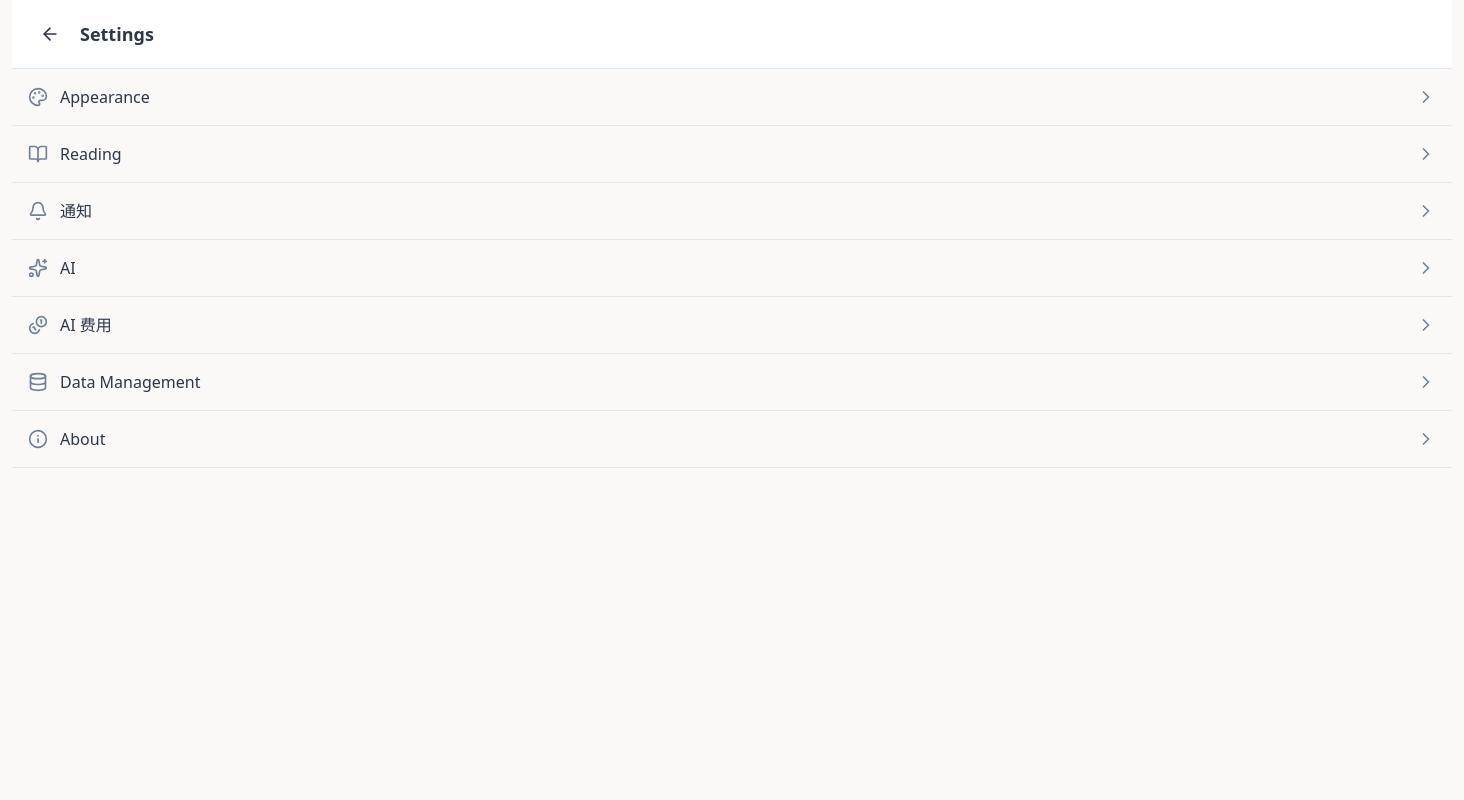
MobileSettingsPanel › Reading Settings › should reset settings when reset button is clicked
The image size is (1464, 800).
Click the button "Reading": coordinates (91, 154) x1=12 y1=126 x2=1452 y2=182
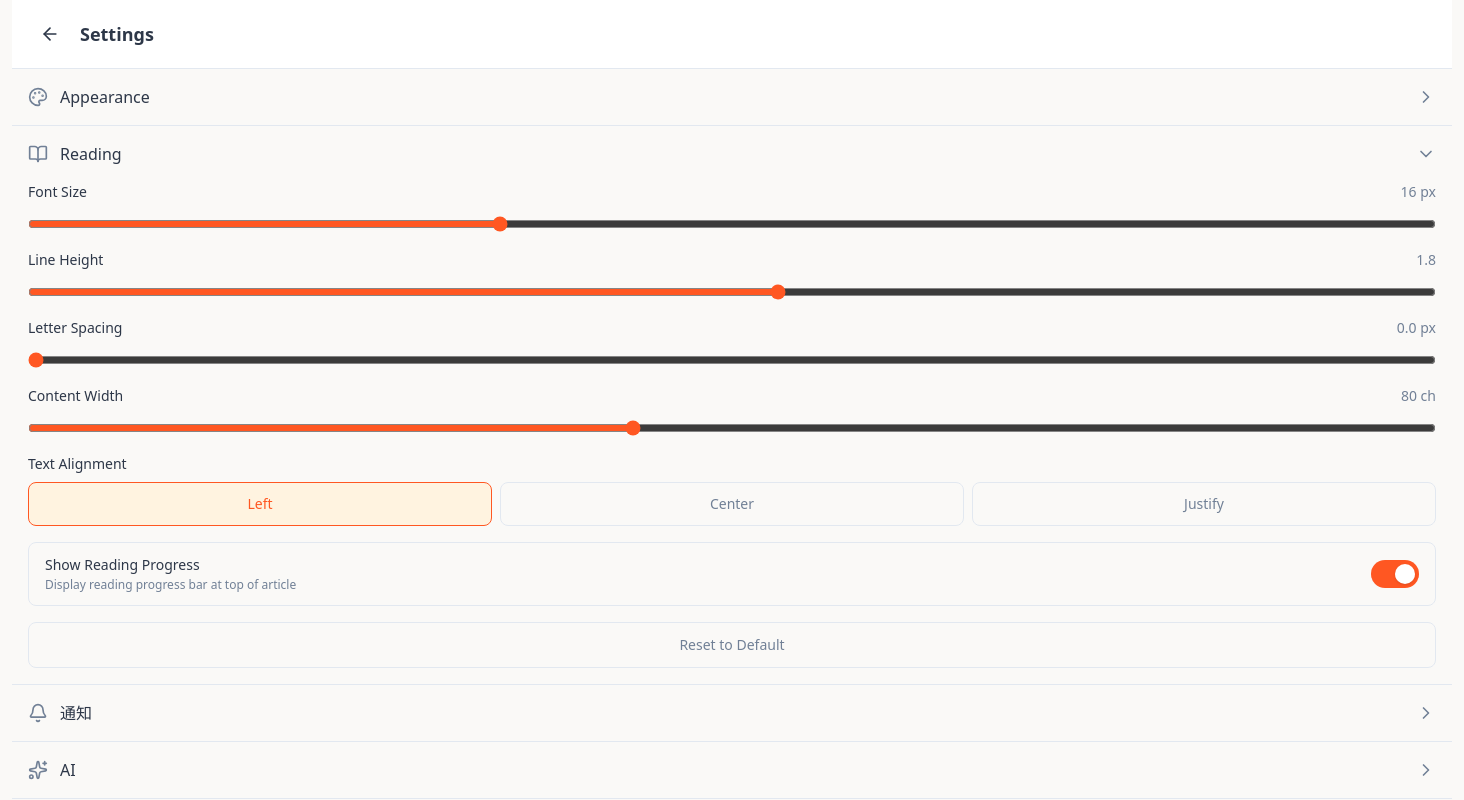
expect the slider named "Font Size" is shown: met
Set the slider named "Font Size" to "20": coordinates (964, 224) x1=28 y1=220 x2=1436 y2=228
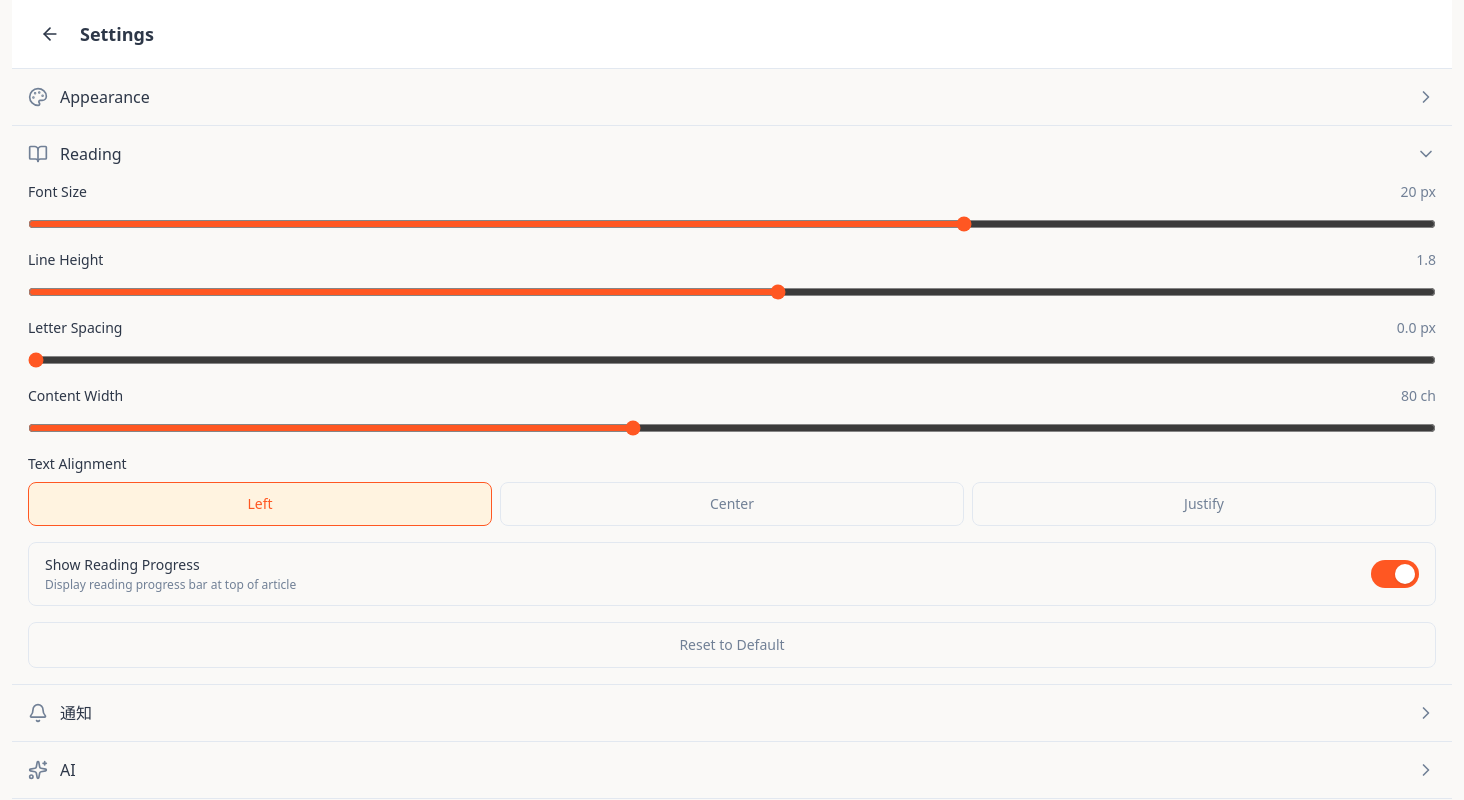
Note: Click reset
Click the button "Reset to Default": coordinates (732, 645) x1=28 y1=622 x2=1436 y2=668
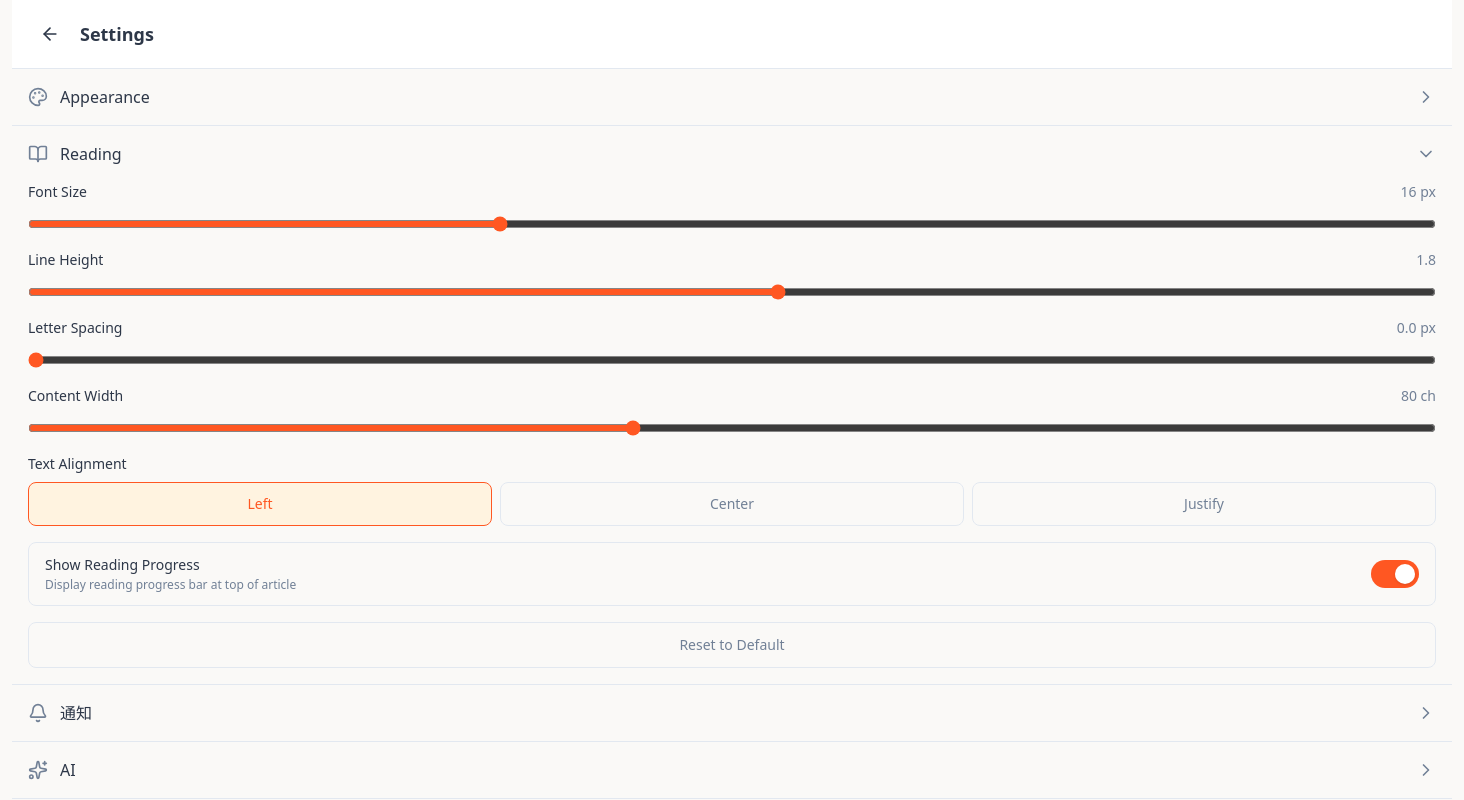
expect the slider named "Font Size" holds "16": met, box x1=28 y1=220 x2=1436 y2=228
